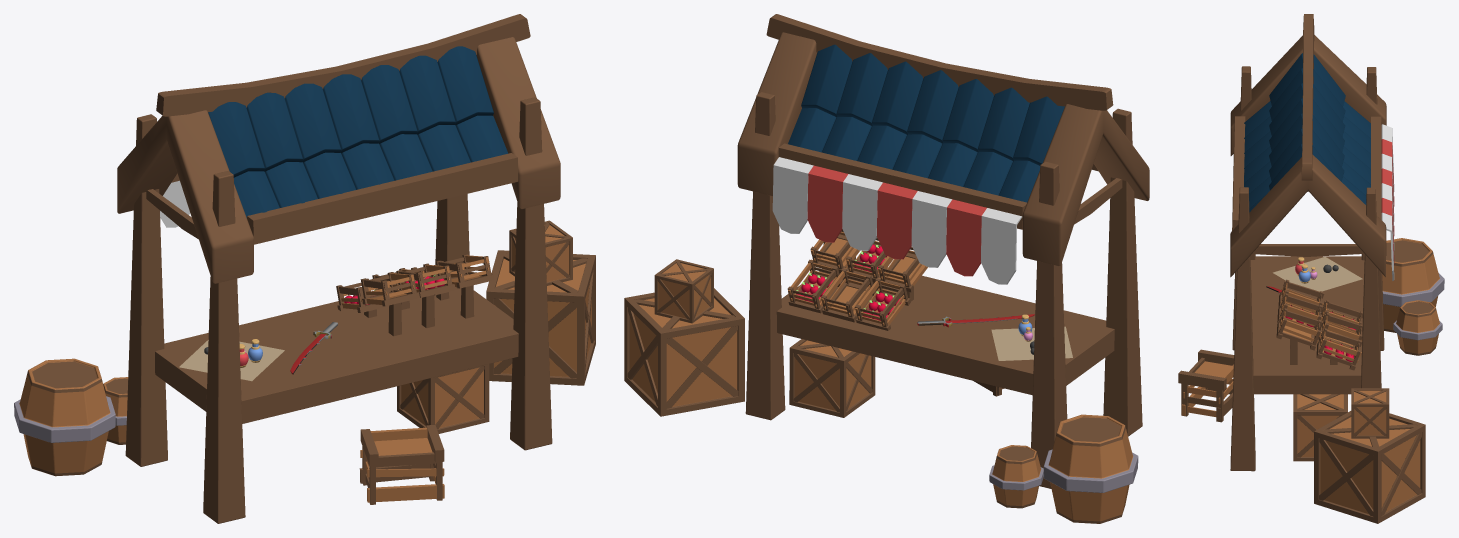
Rendered from Shop.fbx.
3 views of the same model, side by side, from view 1: azimuth 30°, elevation 25°; view 2: azimuth 150°, elevation 25°; view 3: azimuth 270°, elevation 25° (orthographic). The views are drawn at different scales.
Visible parts, largest first — view 1: Strong_Katana; view 2: Strong_Katana; view 3: Strong_Katana.
Part boxes in pixels (box(x1,y1,x2,y2)): Strong_Katana: box(14, 14, 595, 523); Strong_Katana: box(624, 14, 1149, 523); Strong_Katana: box(1178, 14, 1444, 523).
Size of the model in its own units: 6055 by 4109 by 3069.
